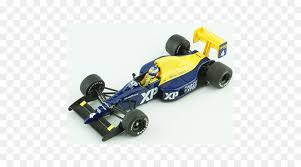FormulaOneCar: (66, 25, 237, 142)
